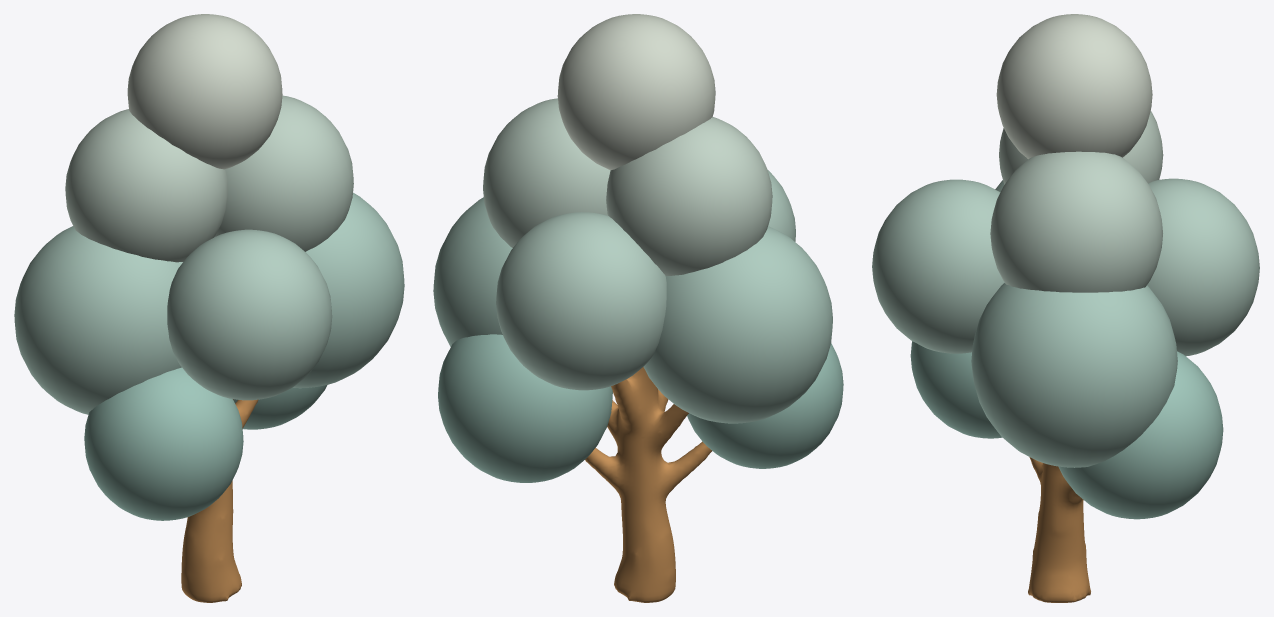
File: pine-large.glb
The picture shows the model from 3 angles, left to right: view 1: azimuth 30°, elevation 25°; view 2: azimuth 150°, elevation 25°; view 3: azimuth 270°, elevation 25°; orthographic projection.
Parts seen in each view (by area): view 1: Tree · independent spherical crown, Tree · visible rounded forks; view 2: Tree · independent spherical crown, Tree · visible rounded forks; view 3: Tree · independent spherical crown, Tree · visible rounded forks.
Boxes of the visible parts, <box> form: Tree · independent spherical crown: <box>14,14,404,520</box>; Tree · visible rounded forks: <box>181,399,258,602</box>; Tree · independent spherical crown: <box>433,14,843,482</box>; Tree · visible rounded forks: <box>585,367,711,602</box>; Tree · independent spherical crown: <box>872,14,1259,519</box>; Tree · visible rounded forks: <box>1028,457,1090,602</box>.
Size of the model in its own units: 1.95 by 2.9 by 1.76.
